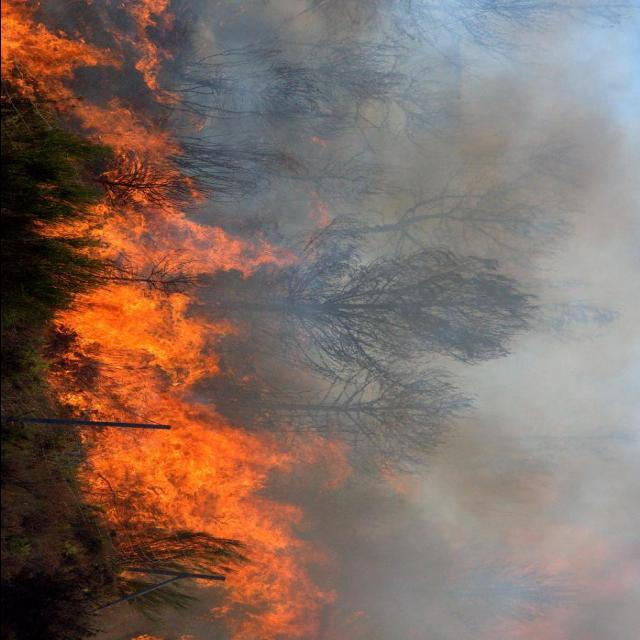Fire: (5, 5, 343, 629)
